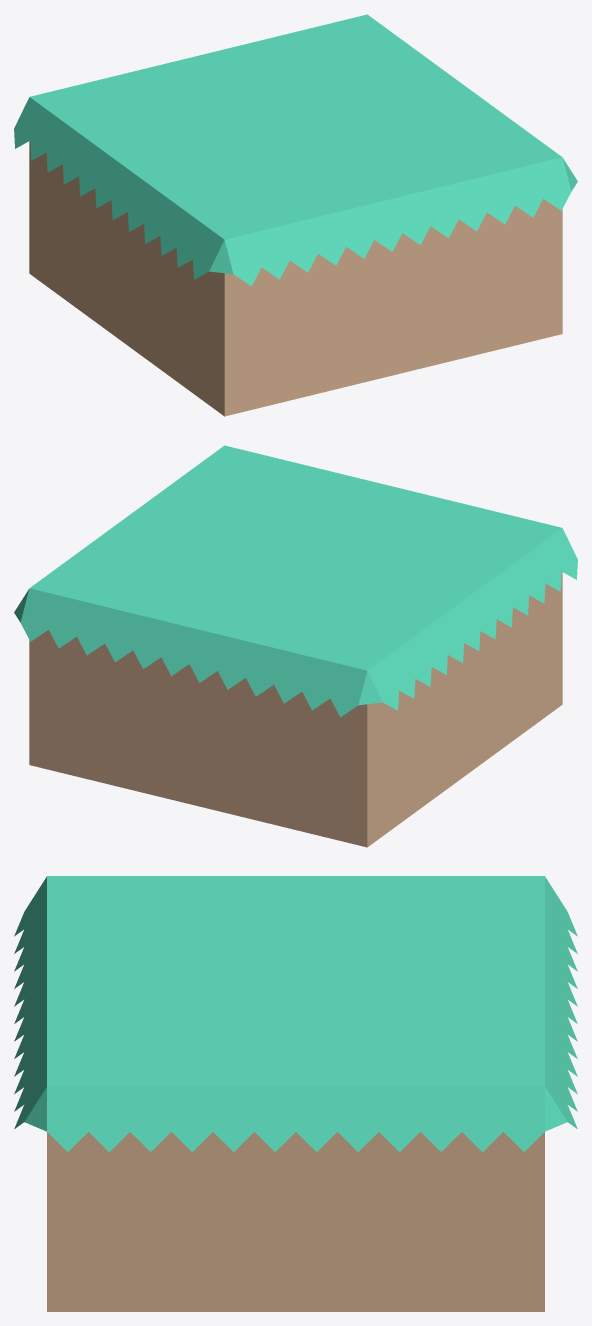
File: blockLarge.glb
3 views of the same model, one above another, from view 1: azimuth 30°, elevation 25°; view 2: azimuth 150°, elevation 25°; view 3: azimuth 270°, elevation 25° (orthographic). The views are drawn at different scales.
Parts seen in each view (by area): view 1: blockLarge(Clone); view 2: blockLarge(Clone); view 3: blockLarge(Clone).
Boxes of the visible parts, x1=… form: blockLarge(Clone): x1=14, y1=14, x2=577, y2=416; blockLarge(Clone): x1=14, y1=445, x2=577, y2=847; blockLarge(Clone): x1=14, y1=876, x2=577, y2=1311.
Size of the model in its own units: 2.27 by 1 by 2.27.
